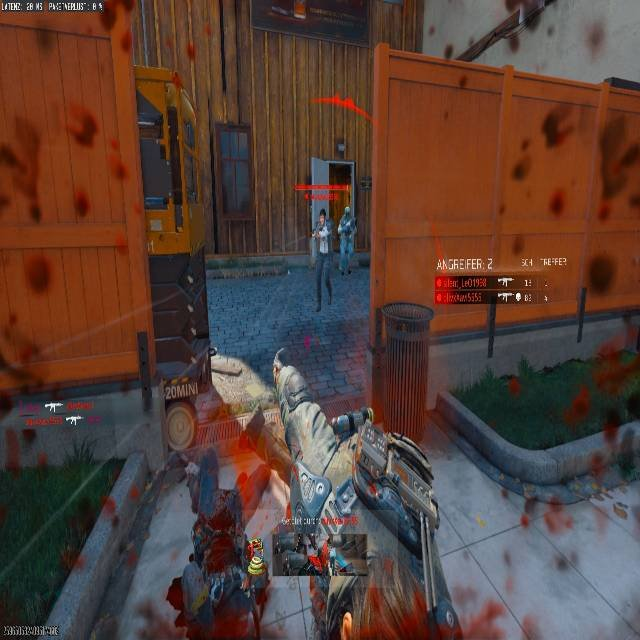head: (343, 206, 351, 216), (318, 208, 326, 218)
player: (167, 314, 446, 640), (336, 206, 357, 274), (313, 209, 330, 244)
